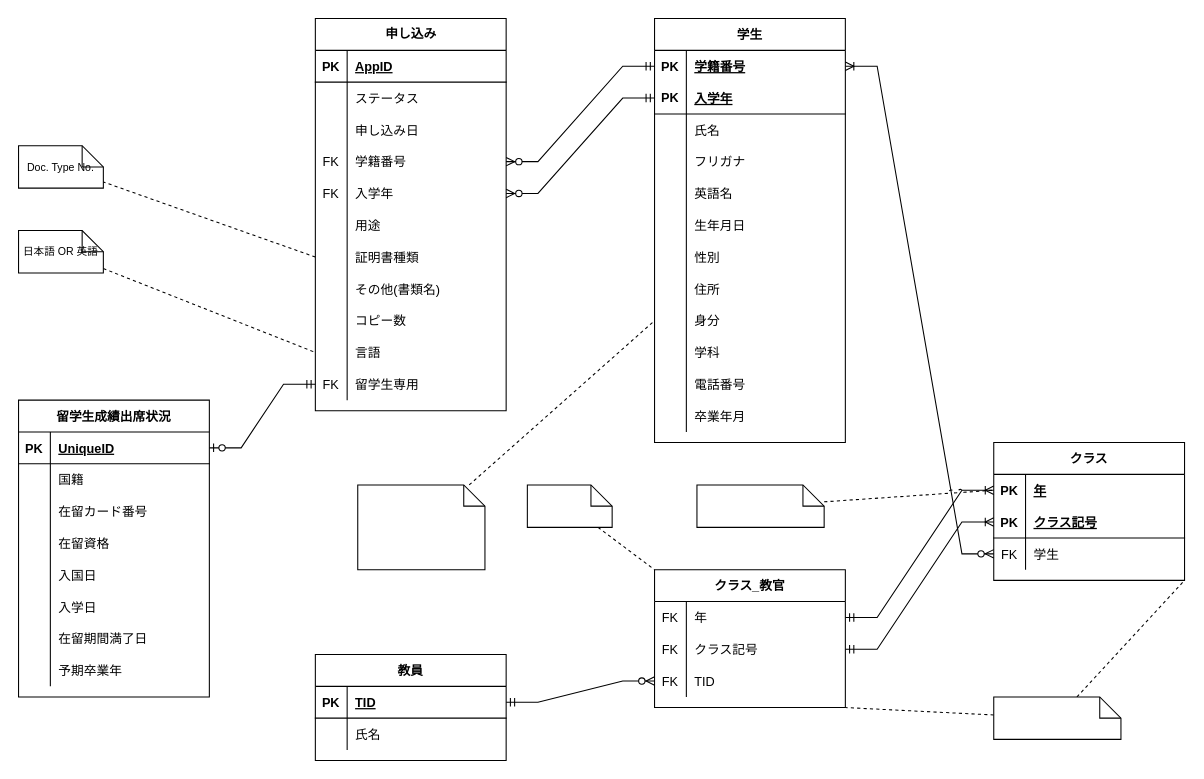
The diagram is 1204 pixels wide and 779 high, and some of its shapes have lost their labels. The centre of each missing label's shape, as x and y in pixels:
"Constrain on Year()" goes at [760,505].
"Status 「在校生」、「卒業生」、「休学生」、「退学者」" goes at [421,527].
"履歴入り" goes at [1057,717].
"担任教官" goes at [569,505].
